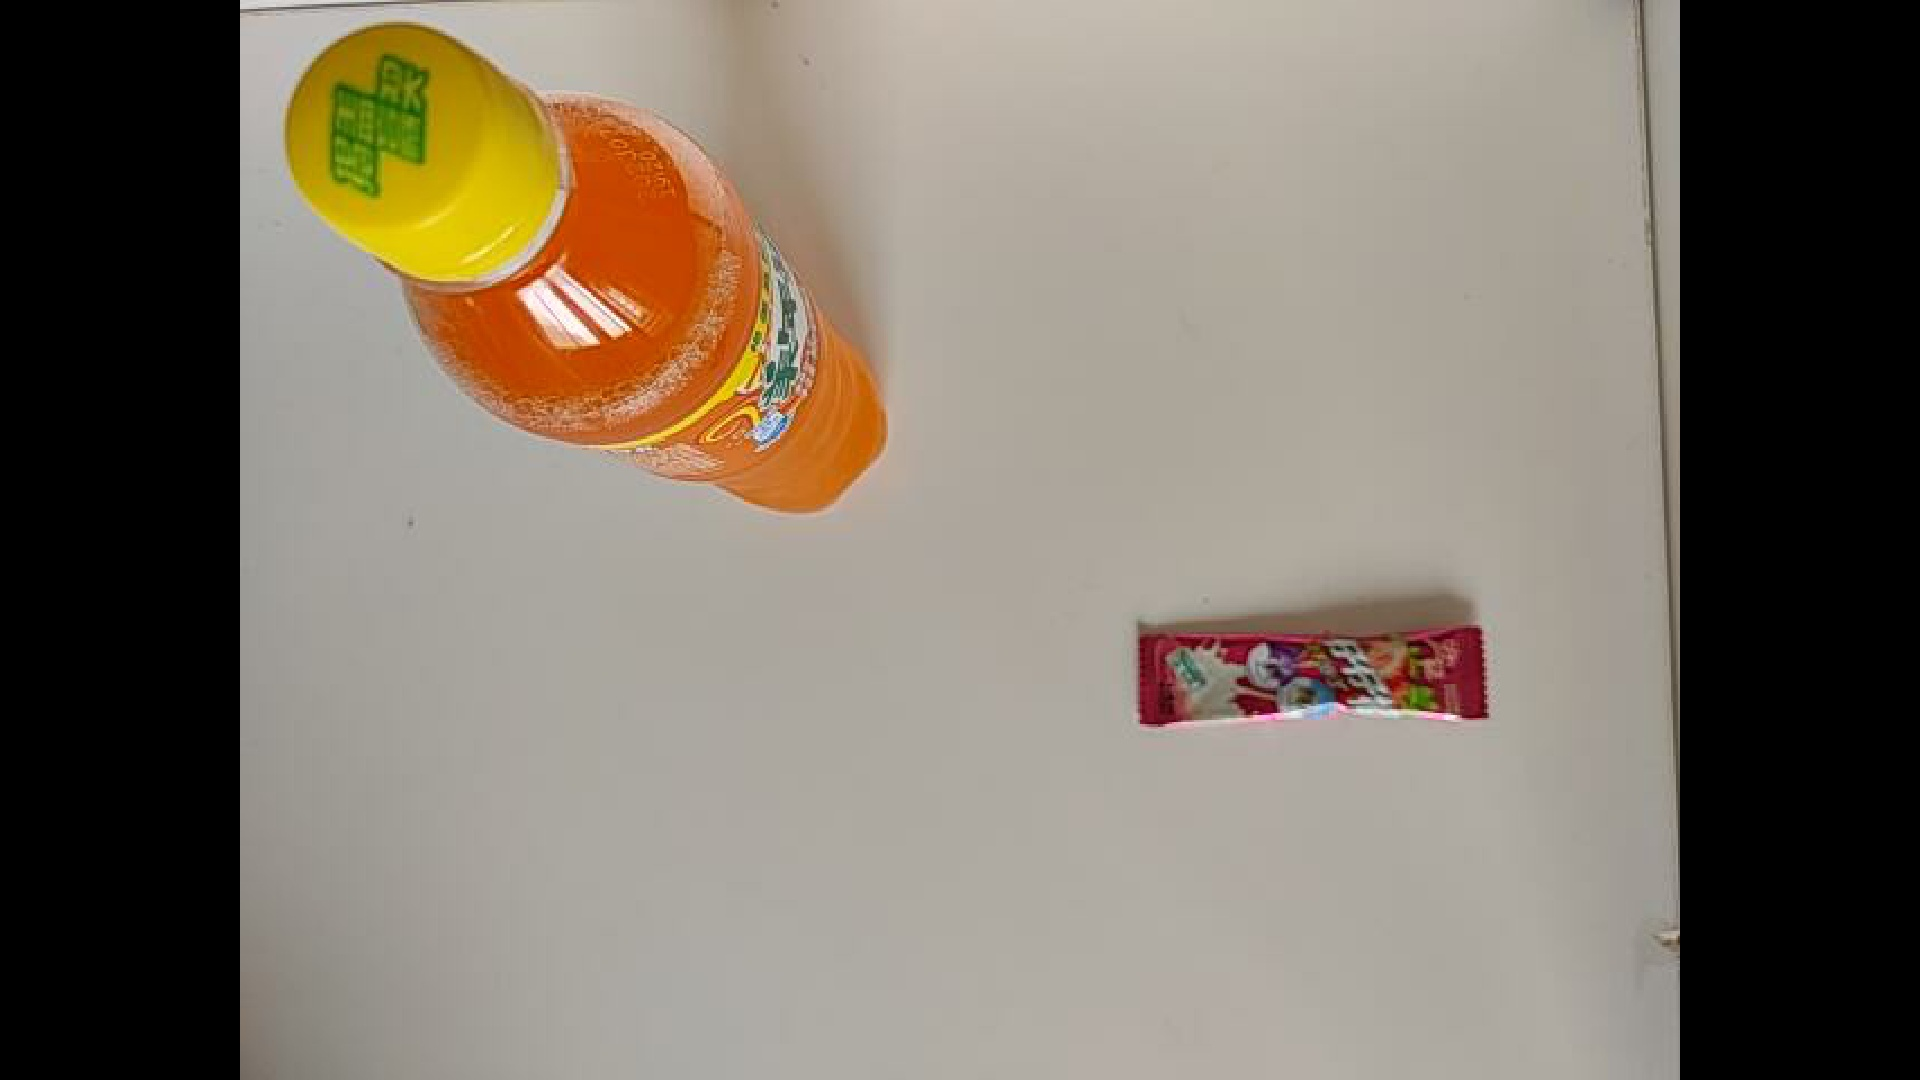fenta: (282, 20, 889, 518)
sugar: (1135, 624, 1491, 728)
